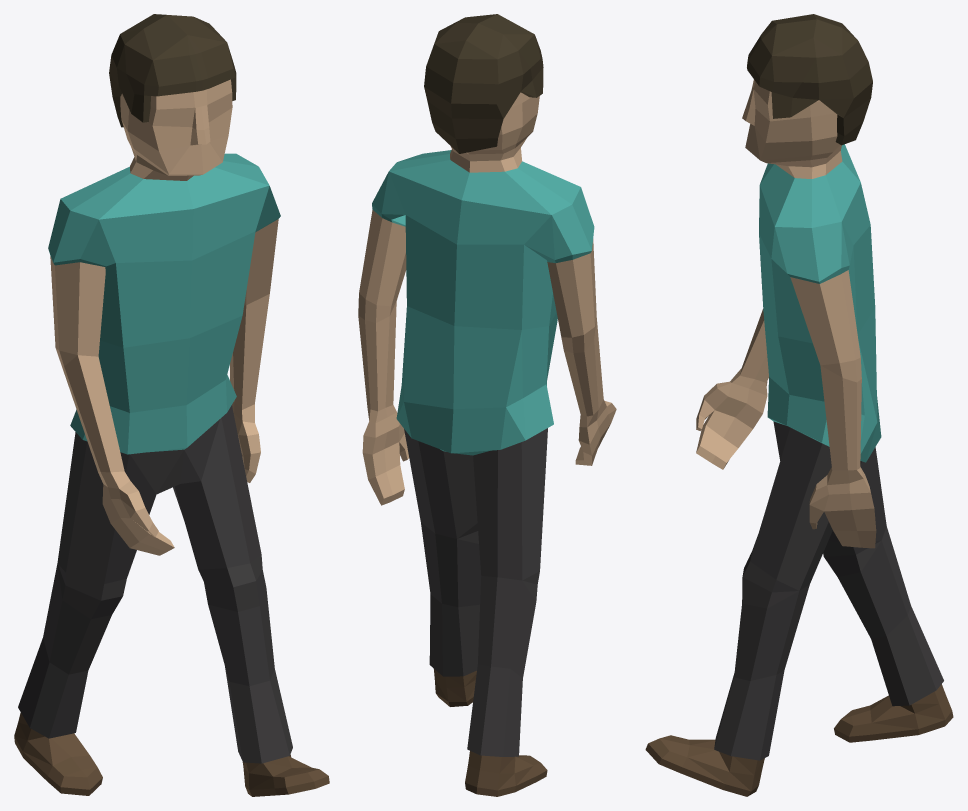
Rendered from 57 People_Male_4.fbx.
3 renders of one model, left to right at view 1: azimuth 30°, elevation 25°; view 2: azimuth 150°, elevation 25°; view 3: azimuth 270°, elevation 25°, orthographic. The views are drawn at different scales.
Parts seen in each view (by area): view 1: Male_Hairstyle15; view 2: Male_Hairstyle15; view 3: Male_Hairstyle15.
Part boxes in pixels (x1,y1,x2,y2): Male_Hairstyle15: [14, 14, 329, 796]; Male_Hairstyle15: [358, 14, 616, 796]; Male_Hairstyle15: [645, 14, 953, 796].
Size of the model in its own units: 11.82 by 37.94 by 14.17.
